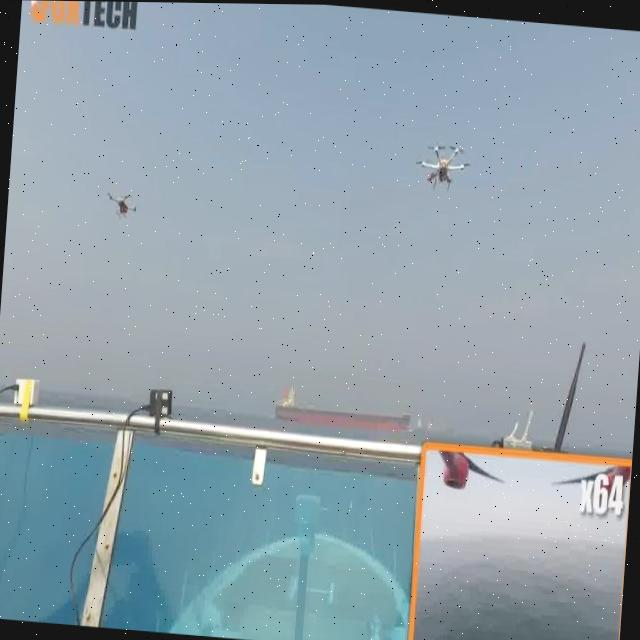drone: (409, 126, 474, 203), (100, 175, 146, 227)
